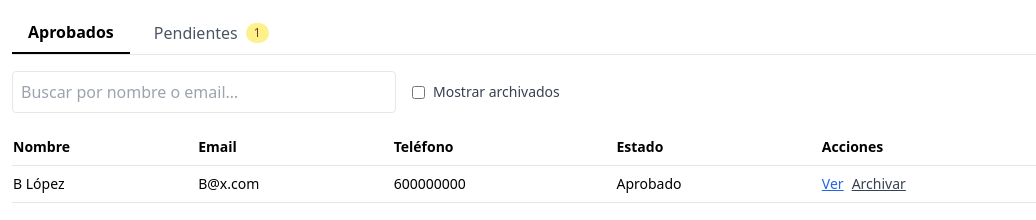
AgendaTabs › switching to Pendientes tab shows pending workers
expect the text "B López" is shown: met, box [12, 166, 197, 202]
Click the button "Pendientes 1": (211, 33) [138, 13, 285, 53]
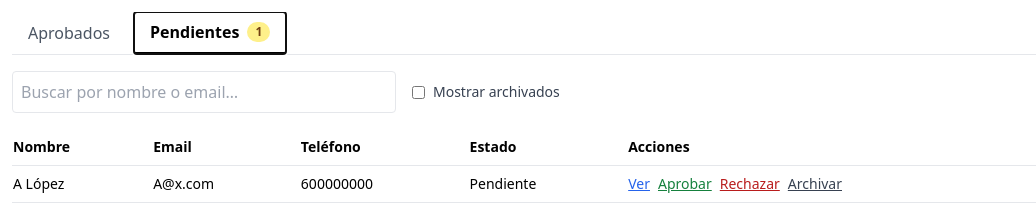
expect the text "A López" is shown: met, box [12, 166, 152, 202]
